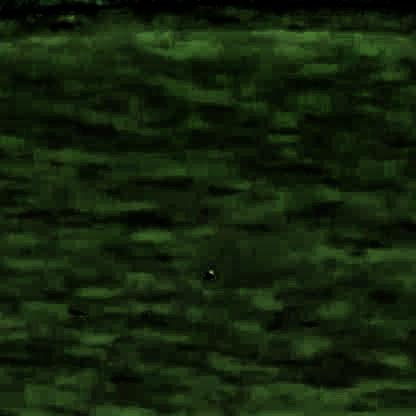golfball: (201, 268, 212, 278)
